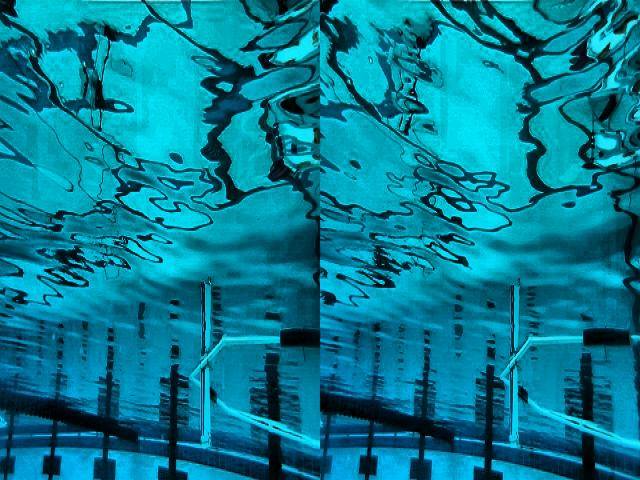octagon_top: (499, 329, 640, 465), (186, 329, 320, 458)
